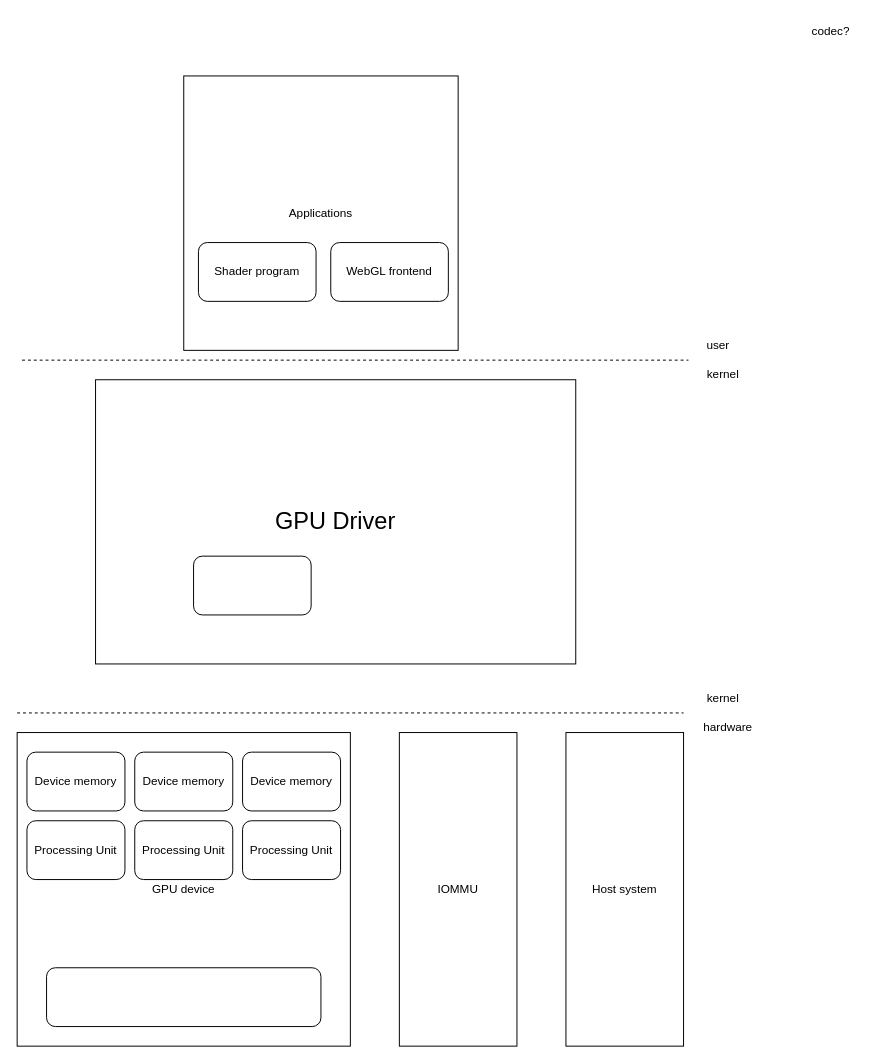
This 877x1063 diagram has some shape labels left out. Here are the shapes that lost their labels. From the top down, the centre of each, then its label:
point 252,585: WebGL backend
point 183,997: Global memory
